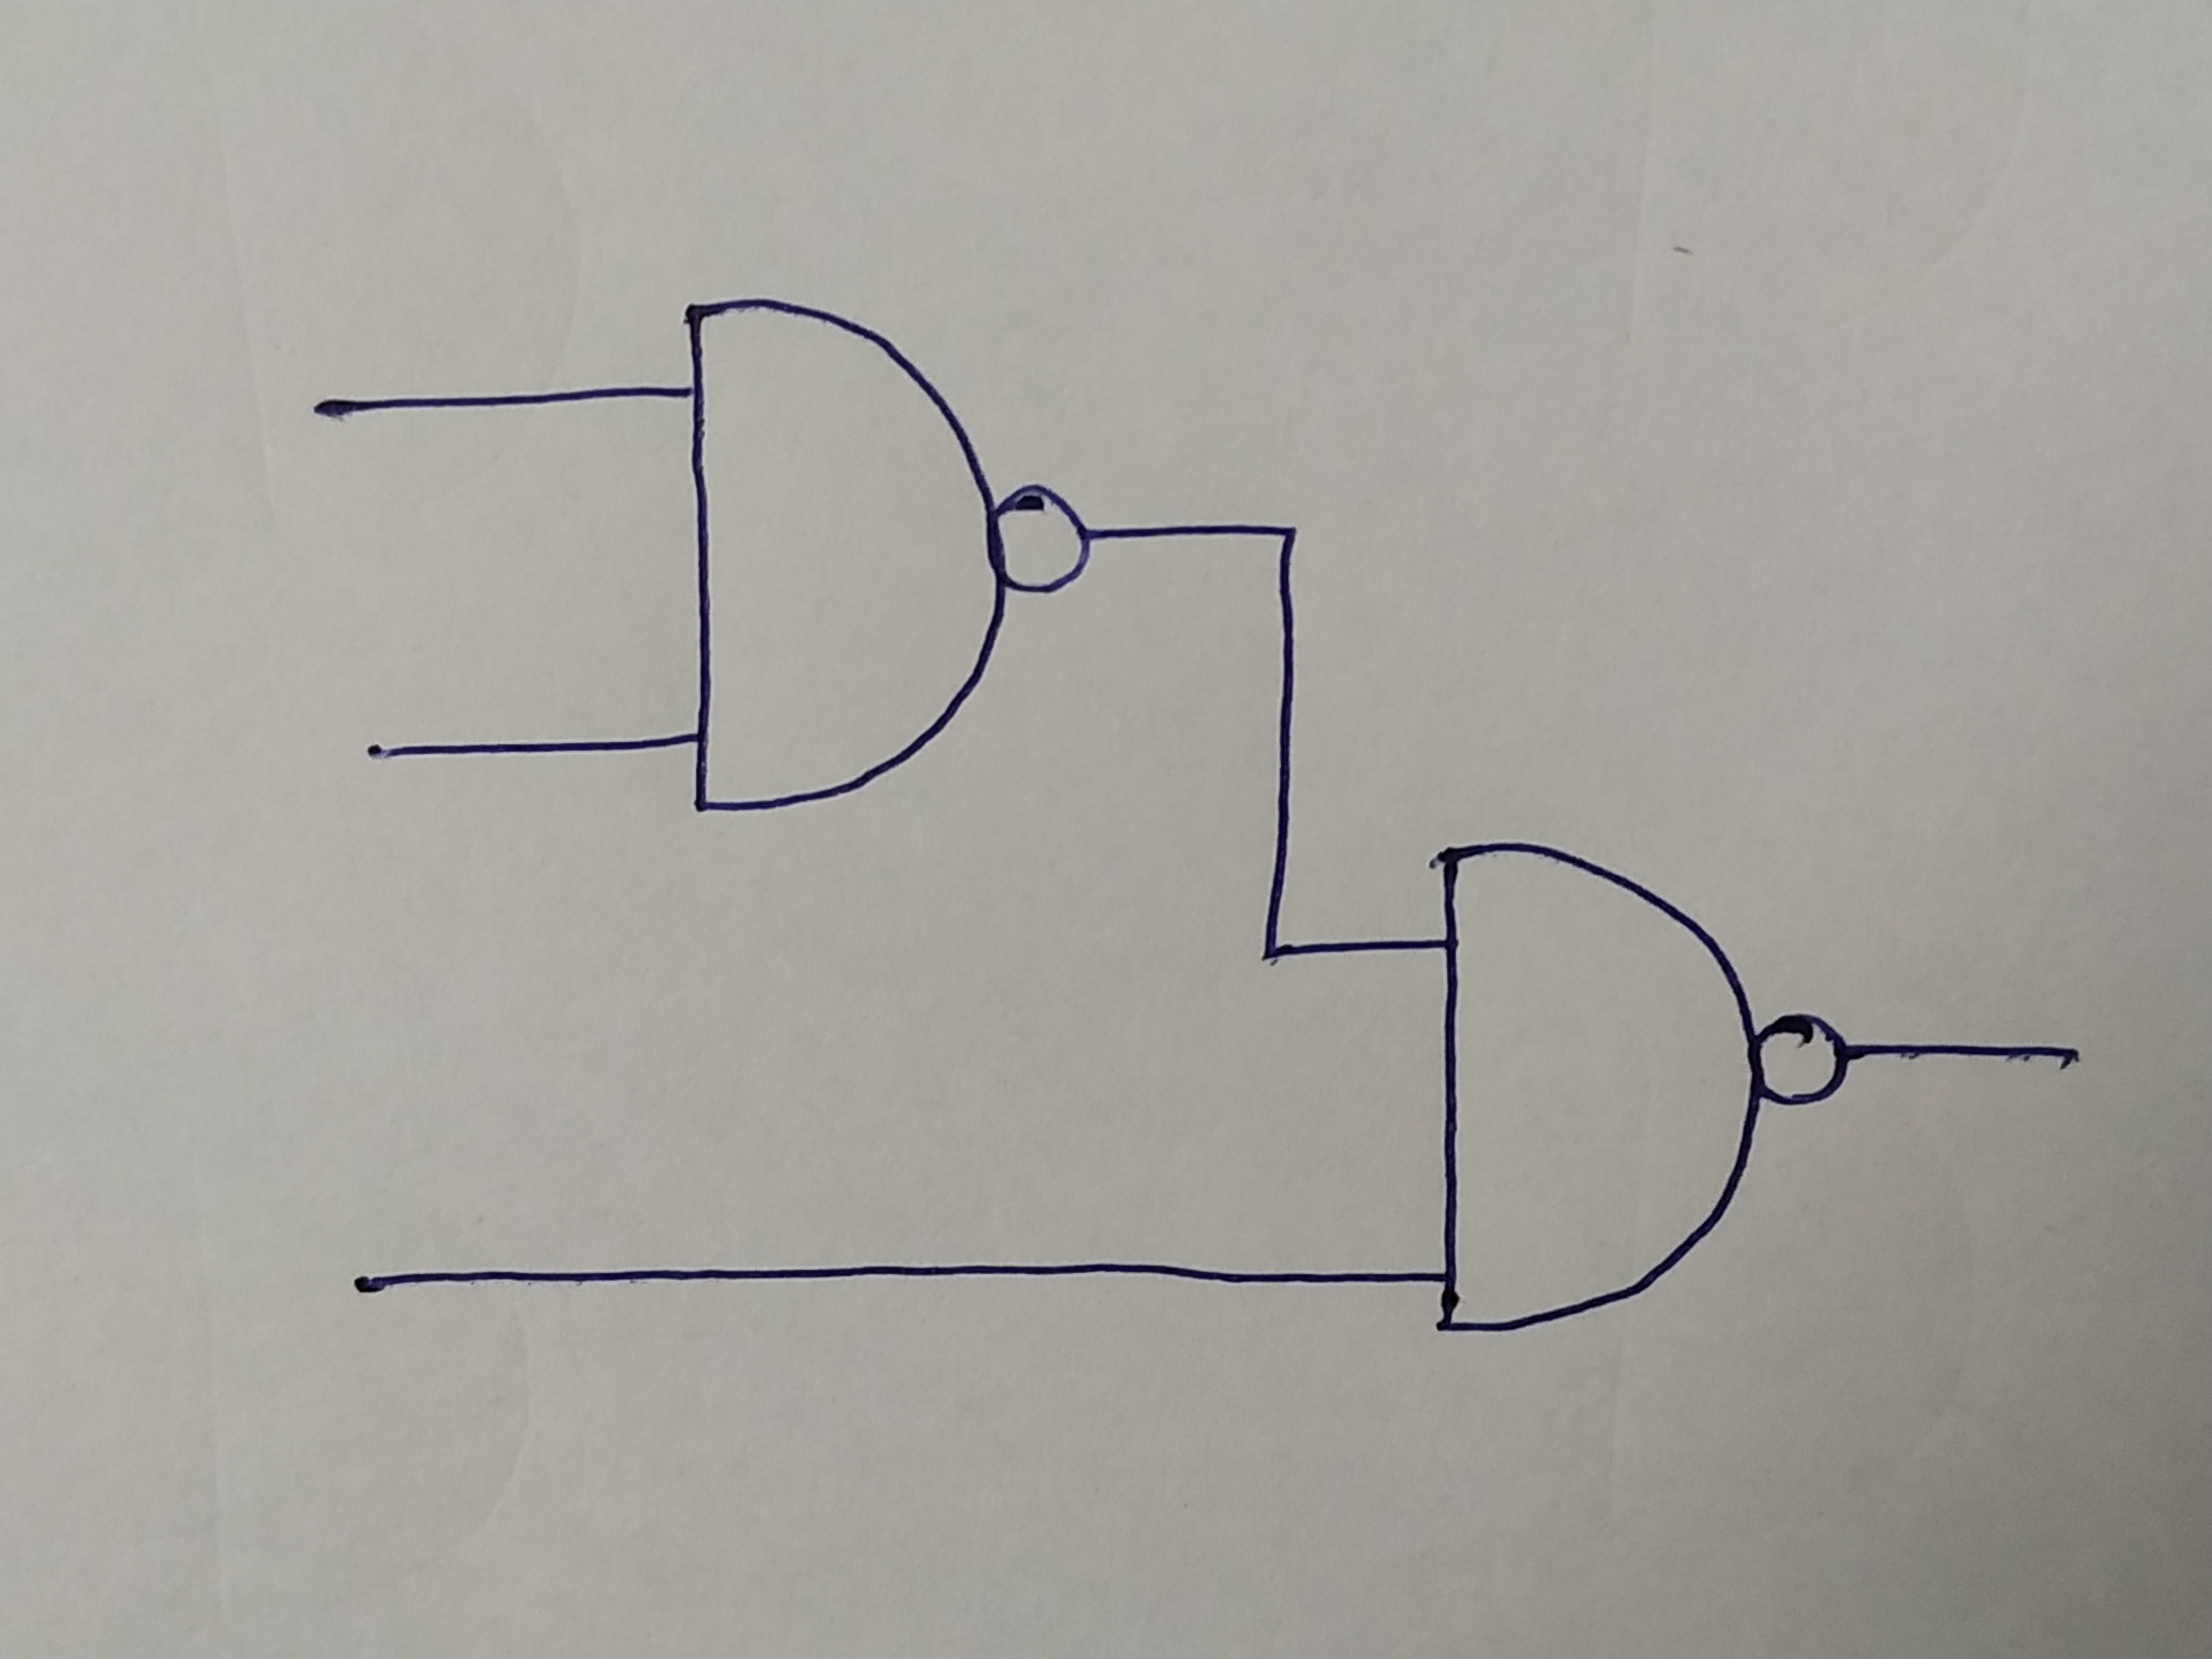and: (681, 310, 996, 805), (1433, 845, 1752, 1328)
not: (995, 484, 1089, 592), (1759, 1012, 1844, 1101)
